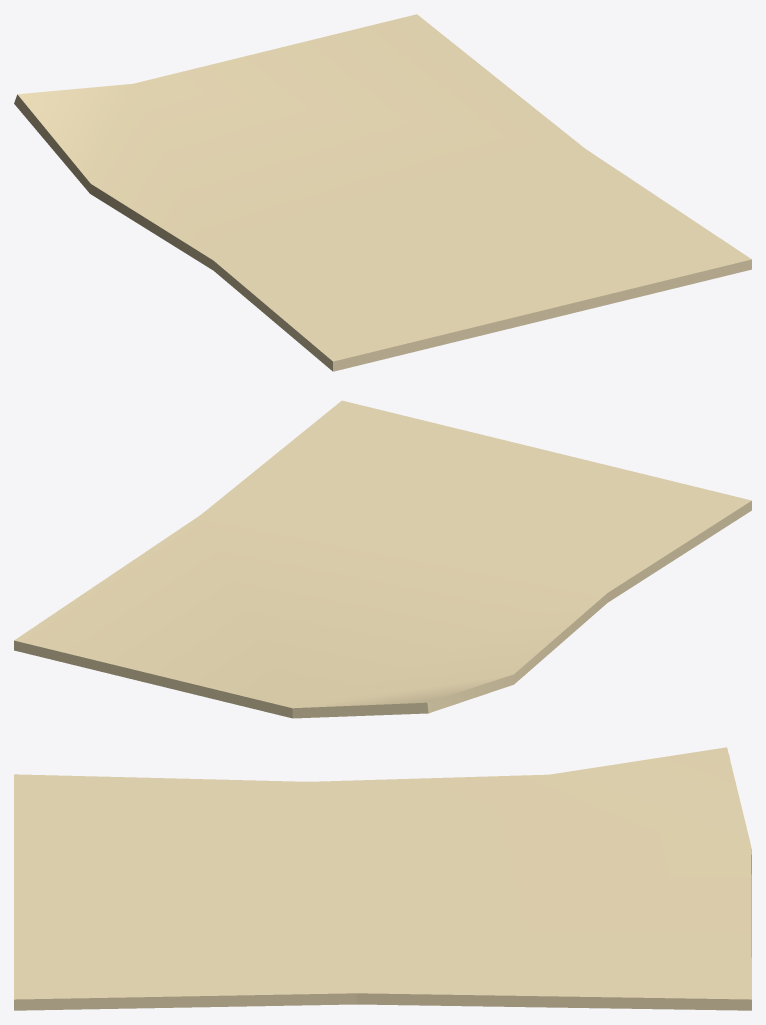
File: papel_pacote.glb
The picture shows the model from 3 angles, top to bottom: view 1: azimuth 30°, elevation 25°; view 2: azimuth 150°, elevation 25°; view 3: azimuth 270°, elevation 25°; orthographic projection. The views are drawn at different scales.
Visible parts, largest first — view 1: papel_pacote; view 2: papel_pacote; view 3: papel_pacote.
Boxes of the visible parts, x1=… form: papel_pacote: x1=14, y1=14, x2=751, y2=371; papel_pacote: x1=14, y1=400, x2=751, y2=718; papel_pacote: x1=14, y1=747, x2=751, y2=1010.
Bounding box in the file's own units: 0.224 × 0.0197 × 0.3103.
1 material, 1 textured.
